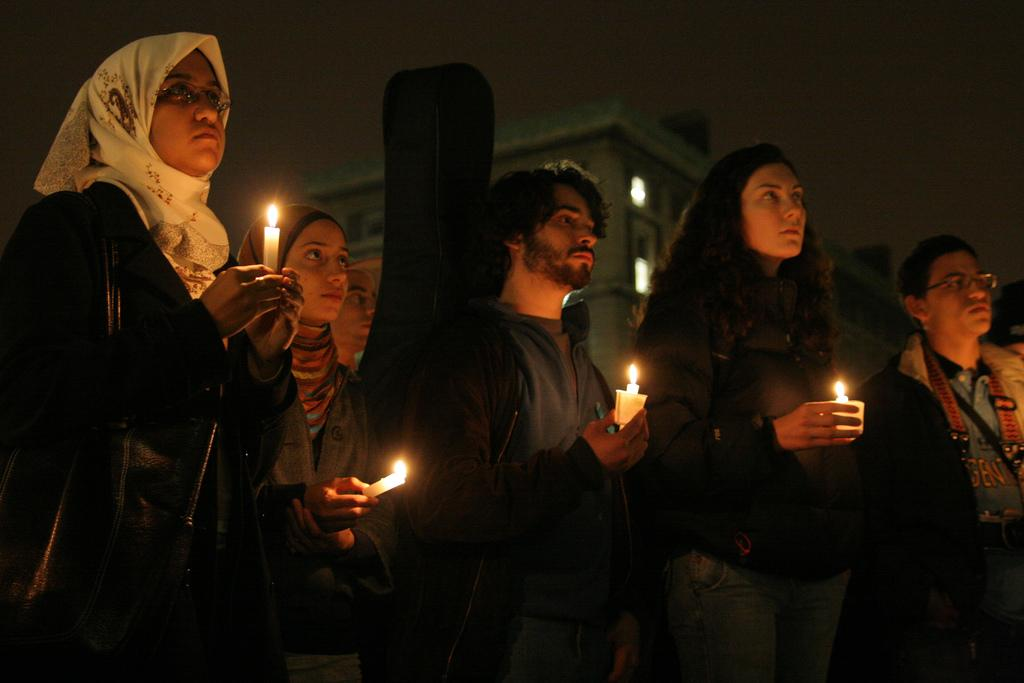fire: (620, 362, 648, 392), (830, 373, 850, 397), (393, 458, 412, 482), (268, 195, 278, 232), (558, 490, 580, 503)
